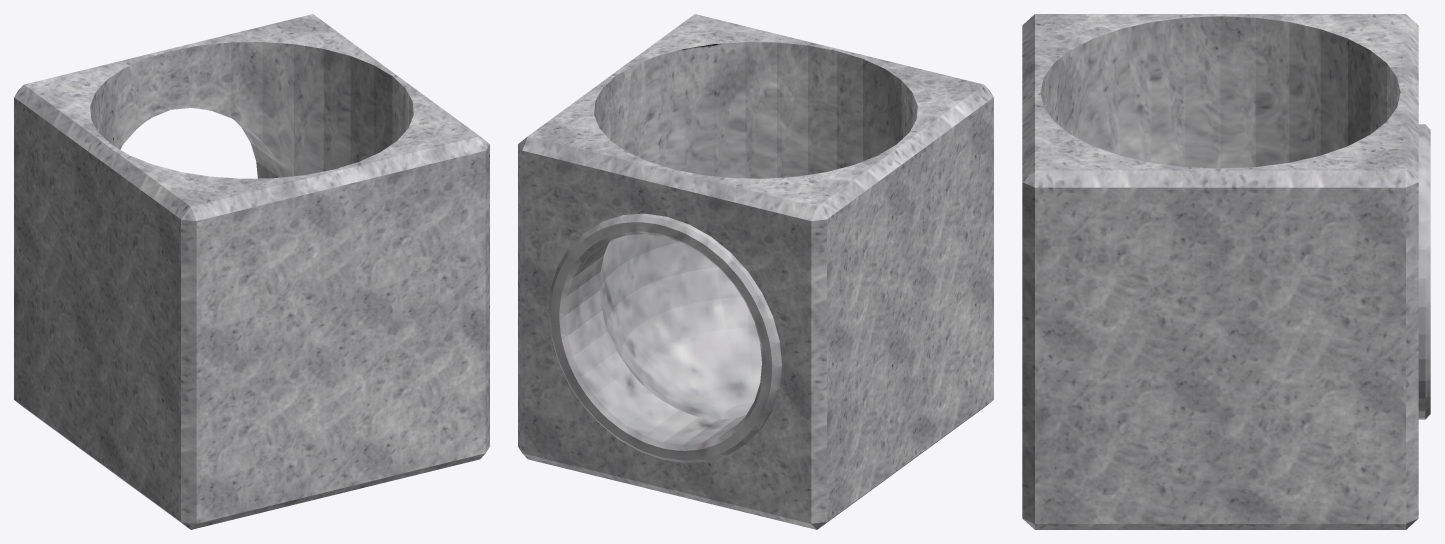
Rendered from sphere_slot.fbx.
The picture shows the model from 3 angles, left to right: view 1: azimuth 30°, elevation 25°; view 2: azimuth 150°, elevation 25°; view 3: azimuth 270°, elevation 25°; orthographic projection. The views are drawn at different scales.
Visible parts, largest first — view 1: Cube; view 2: Cube; view 3: Cube.
Boxes of the visible parts, <box> form: Cube: <box>14,14,489,529</box>; Cube: <box>518,14,993,529</box>; Cube: <box>1022,14,1430,529</box>.
Bounding box in the file's own units: 220 × 220 × 227.
1 material, 1 textured.
